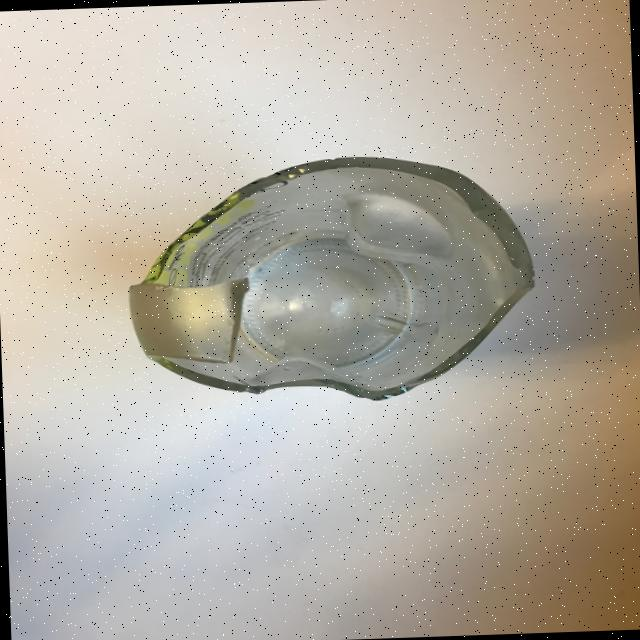glass: (122, 149, 540, 409)
